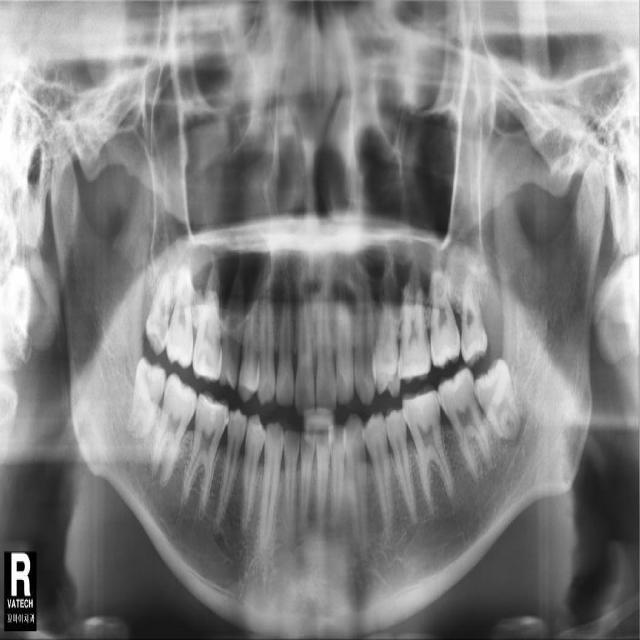3M ESPE Implant: (143, 272, 174, 358)
52: (192, 388, 233, 445), (192, 336, 222, 383)
73: (606, 596, 621, 609)
BioHorizons Implant: (429, 235, 462, 371)
BioLife Implant: (460, 254, 492, 368)
Biomet 3i Implant: (465, 355, 528, 450)
Blue Sky Bio Implant: (431, 362, 498, 487)
Caries: (166, 262, 193, 368)
Implant: (148, 372, 202, 487)
Keystone Dental Implant: (125, 356, 170, 444)
